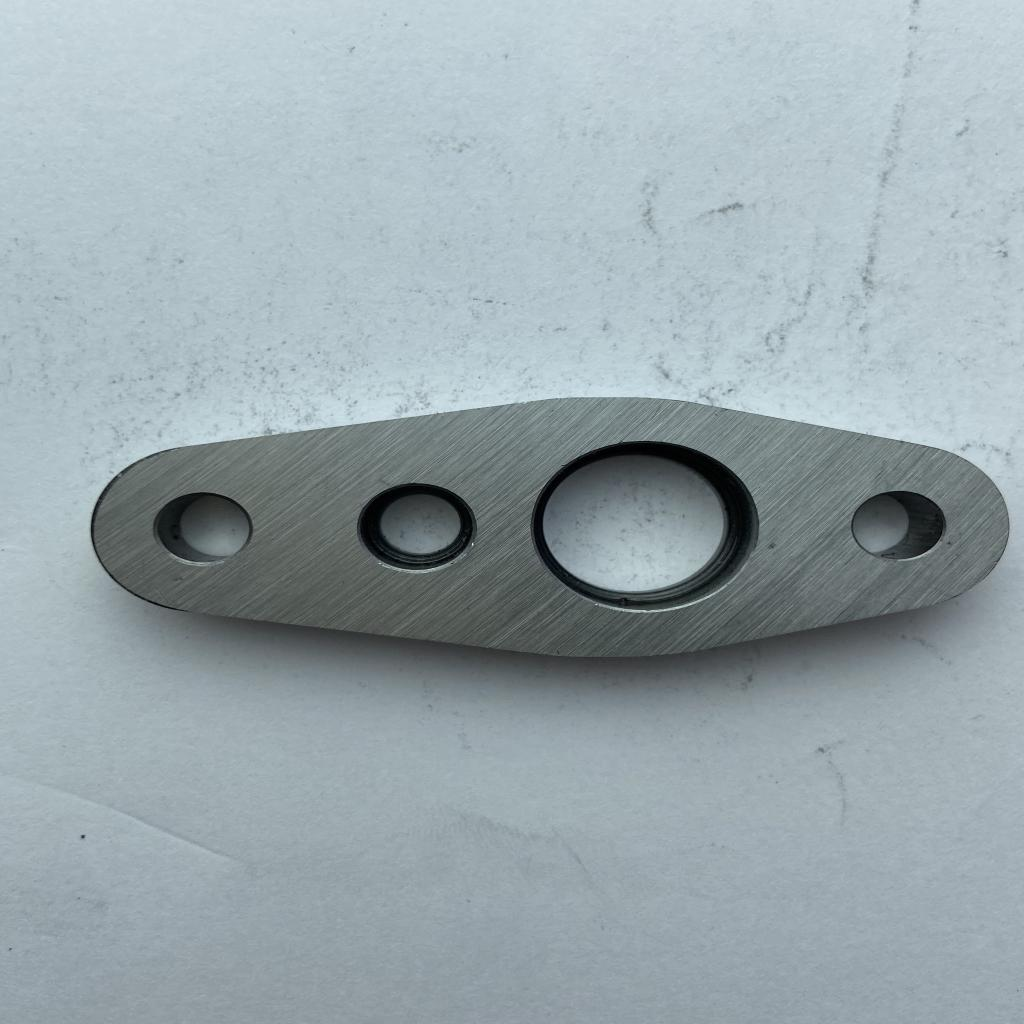lines: (760, 539, 780, 555)
